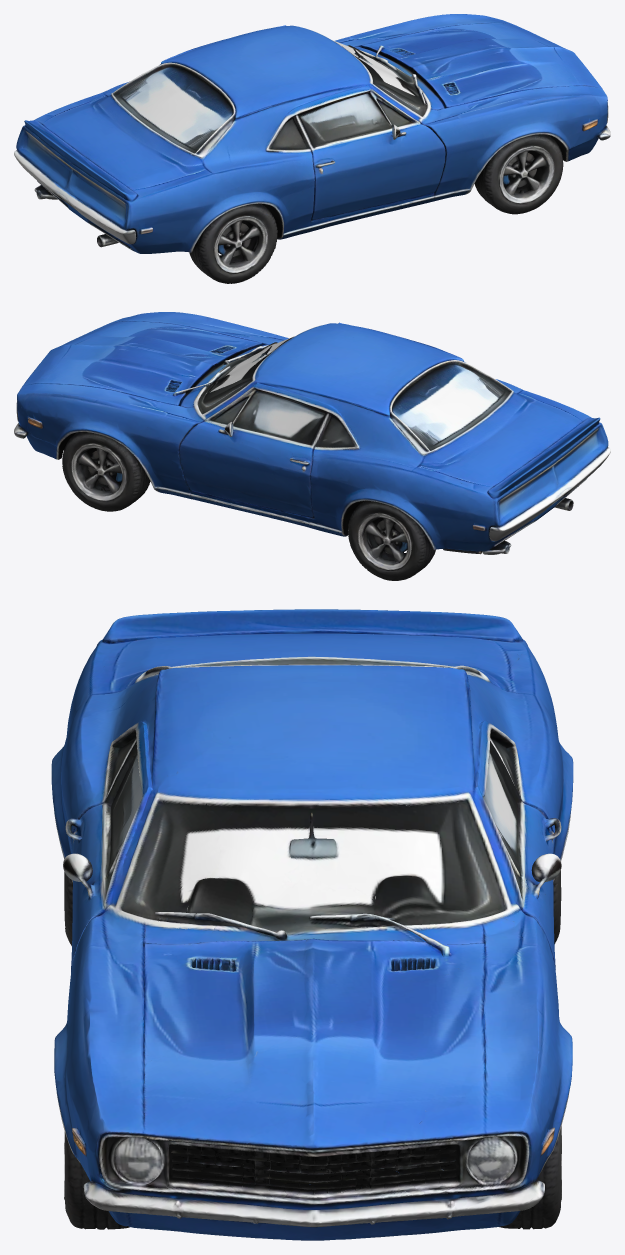
Rendered from sv_stallion.glb.
3 views of the same model, one above another, from view 1: azimuth 30°, elevation 25°; view 2: azimuth 150°, elevation 25°; view 3: azimuth 270°, elevation 25° (orthographic). The views are drawn at different scales.
Visible parts, largest first — view 1: body, wheel_FR_part, wheel_RR_part; view 2: body, wheel_FL_part, wheel_RL_part; view 3: body, wheel_FR_part, wheel_FL_part.
Boxes of the visible parts, x1,y1,x2,y2 form: body: (14, 14, 610, 253); wheel_FR_part: (474, 134, 563, 214); wheel_RR_part: (189, 203, 277, 283); body: (14, 312, 610, 554); wheel_FL_part: (62, 432, 150, 511); wheel_RL_part: (348, 501, 435, 580); body: (51, 609, 573, 1240); wheel_FR_part: (64, 1131, 129, 1229); wheel_FL_part: (499, 1126, 561, 1229).
Size of the model in its own units: 1.9 by 0.5551 by 0.8276.
4 materials, 4 textured.
